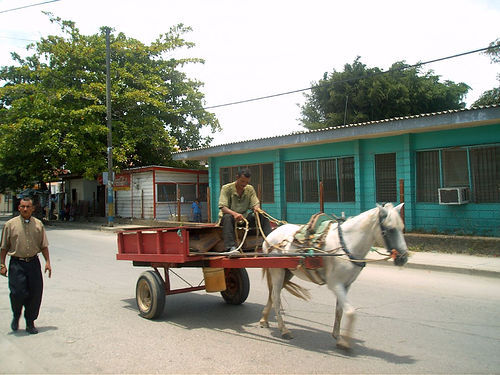horse: (258, 200, 410, 351)
